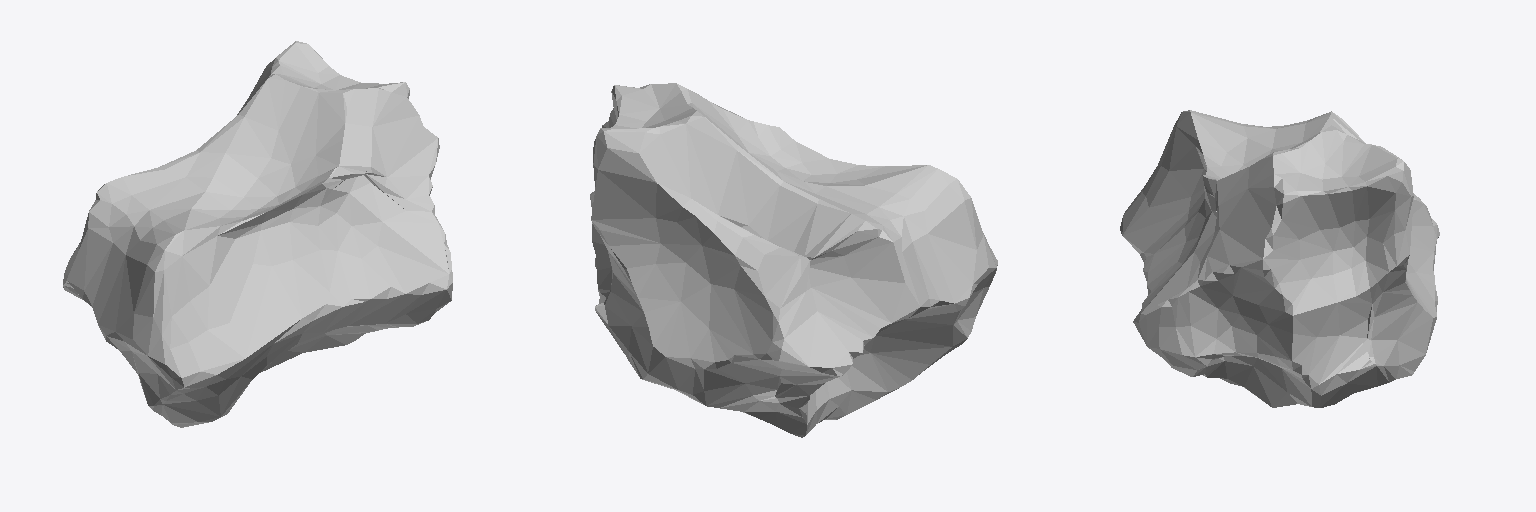
The model's file is Asteroid_01.obj.
The picture shows the model from 3 angles: view 1: azimuth 30°, elevation 25°; view 2: azimuth 150°, elevation 25°; view 3: azimuth 270°, elevation 25°; orthographic projection.
Visible parts, largest first — view 1: Cube.001; view 2: Cube.001; view 3: Cube.001.
Part boxes in pixels (x1,y1,x2,y2): Cube.001: (63,41,452,427); Cube.001: (590,83,997,437); Cube.001: (1120,110,1439,407).
Size of the model in its own units: 5.32 by 4.32 by 4.21.